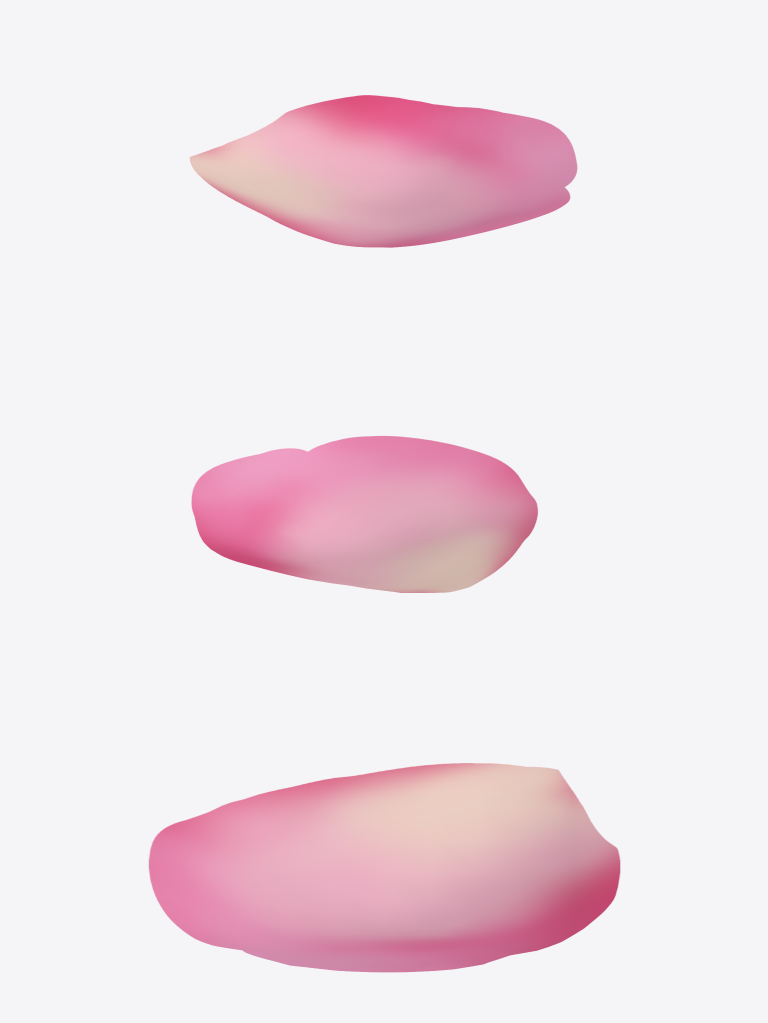
File: spring.gltf
The picture shows the model from 3 angles, top to bottom: view 1: azimuth 30°, elevation 25°; view 2: azimuth 150°, elevation 25°; view 3: azimuth 270°, elevation 25°; orthographic projection. The views are drawn at different scales.
Parts seen in each view (by area): view 1: —Pngtree—valentine s day pink rose_4661447; view 2: —Pngtree—valentine s day pink rose_4661447; view 3: —Pngtree—valentine s day pink rose_4661447.
Part boxes in pixels (x1=…): —Pngtree—valentine s day pink rose_4661447: x1=190, y1=95, x2=577, y2=247; —Pngtree—valentine s day pink rose_4661447: x1=191, y1=436, x2=537, y2=592; —Pngtree—valentine s day pink rose_4661447: x1=149, y1=763, x2=620, y2=972.
Size of the model in its own units: 1.94 by 0.1292 by 1.94.
Materials: 1 (1 with a texture image).
